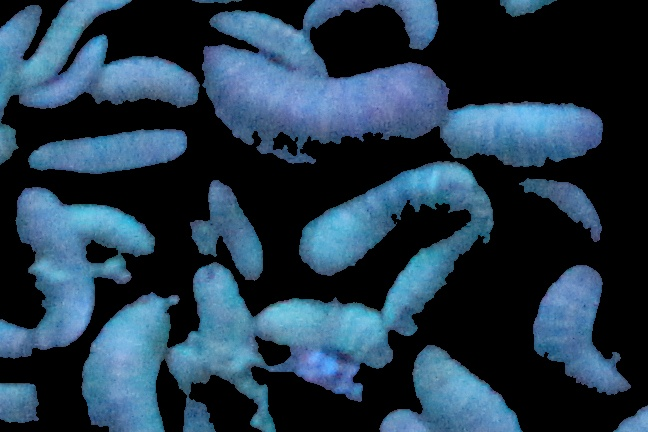larvae: (204, 46, 450, 143), (299, 161, 484, 274), (9, 189, 95, 346), (81, 293, 177, 432), (532, 266, 631, 396), (446, 101, 603, 165), (411, 346, 523, 432), (256, 296, 391, 366), (18, 1, 126, 88), (383, 230, 475, 329), (208, 6, 328, 75), (27, 128, 190, 175), (20, 36, 114, 108), (519, 174, 606, 246), (205, 179, 266, 279), (305, 1, 439, 46), (95, 54, 200, 110), (189, 266, 259, 347), (65, 202, 156, 259), (1, 1, 44, 112)
